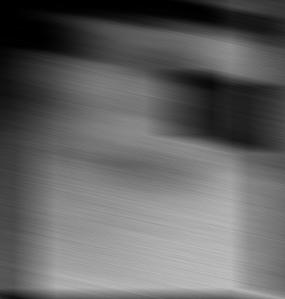Airbag: (1, 0, 284, 299), (0, 295, 285, 299), (273, 295, 285, 299)
